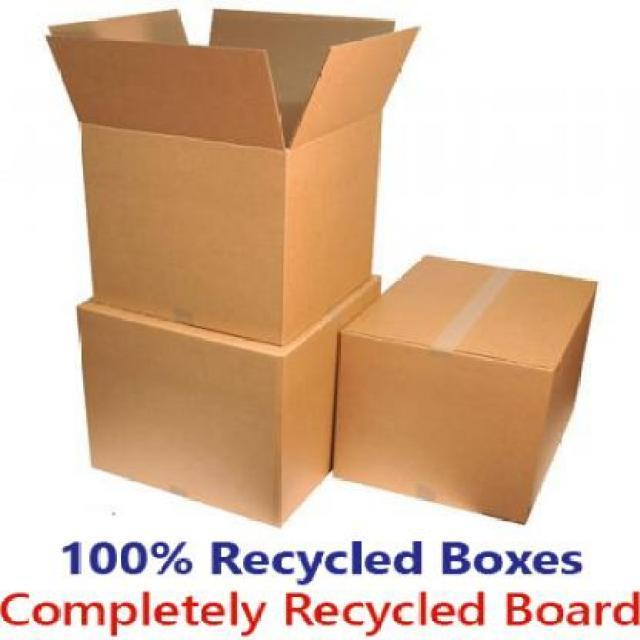box: (52, 11, 406, 348), (76, 274, 383, 526), (339, 249, 596, 527)
